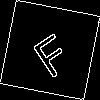F: (25, 25, 76, 80)
